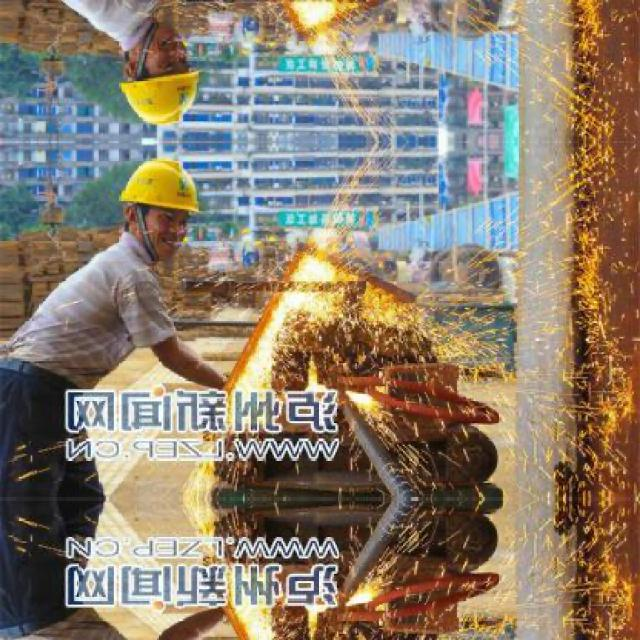helmet: (112, 143, 206, 257), (112, 23, 206, 137)
